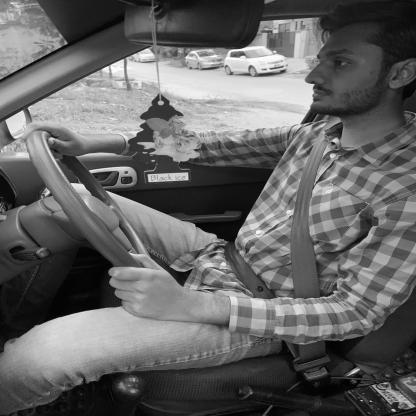seatbelt: (252, 0, 398, 267)
